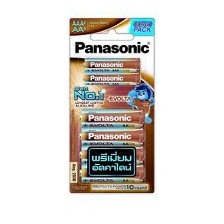battery: (78, 143, 148, 166), (76, 107, 146, 129), (76, 126, 147, 147), (78, 164, 147, 184), (80, 56, 141, 74), (79, 71, 143, 87)
